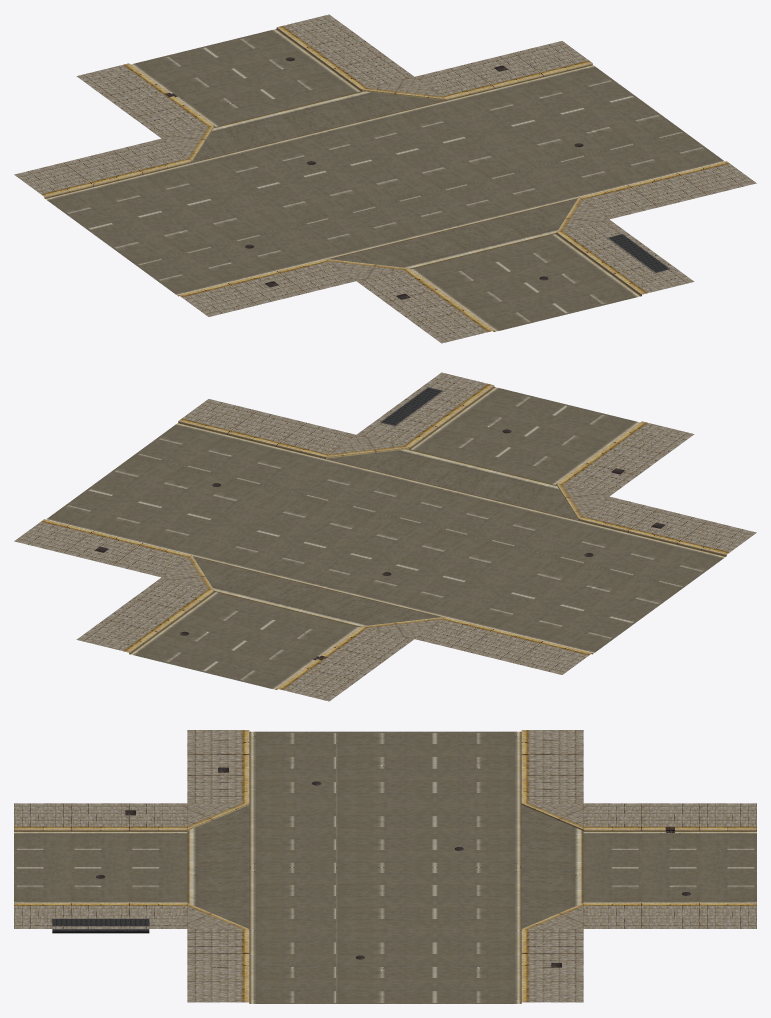
File: Road2_Part_09_B.fbx
3 renders of one model, top to bottom at view 1: azimuth 30°, elevation 25°; view 2: azimuth 150°, elevation 25°; view 3: azimuth 270°, elevation 25°, orthographic.
Parts seen in each view (by area): view 1: Model_Road2_Part_09_B; view 2: Model_Road2_Part_09_B; view 3: Model_Road2_Part_09_B.
Part boxes in pixels (x1=…): Model_Road2_Part_09_B: x1=14, y1=14, x2=756, y2=343; Model_Road2_Part_09_B: x1=14, y1=372, x2=756, y2=701; Model_Road2_Part_09_B: x1=14, y1=730, x2=756, y2=1003.
Bounding box in the file's own units: 5200 × 65.51 × 6000.
